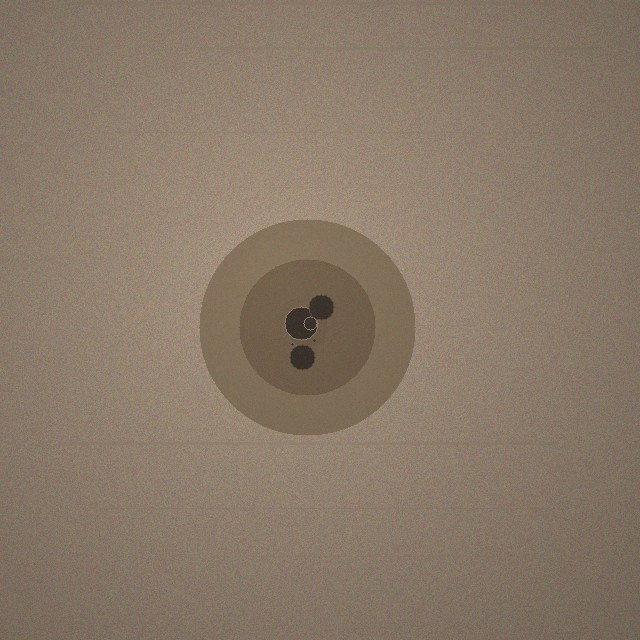shrinkage: (199, 219, 415, 435)
